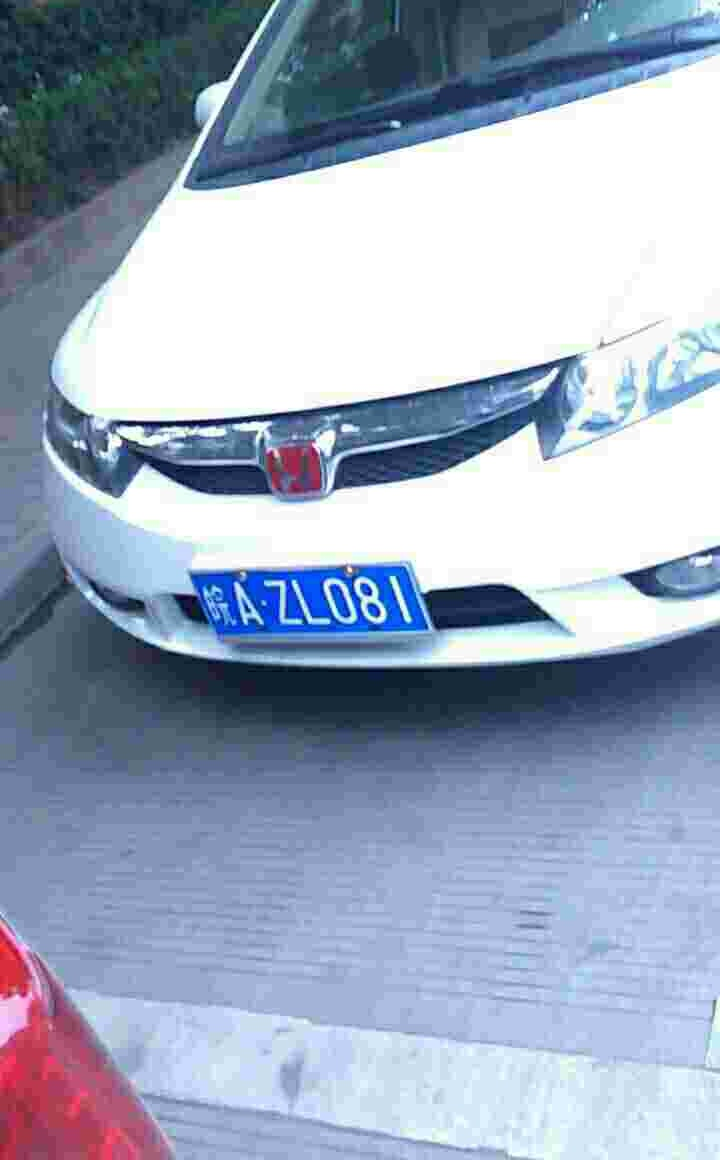license_plate: (195, 560, 442, 639)
